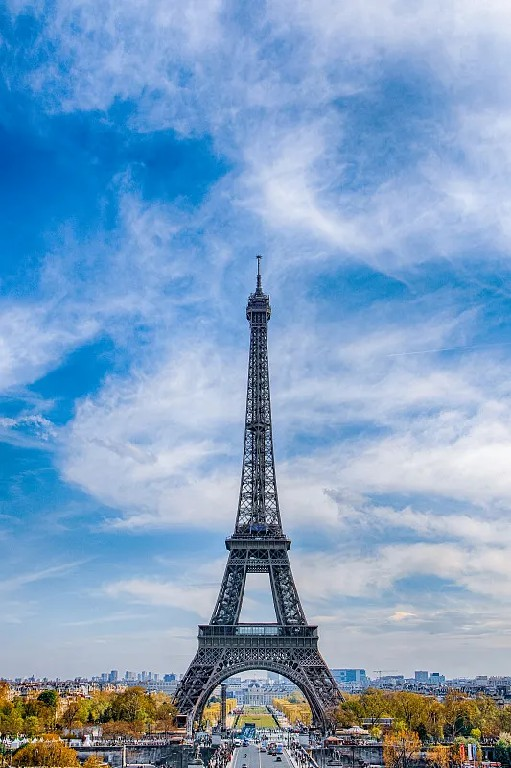Eiffel: (169, 253, 353, 735)
